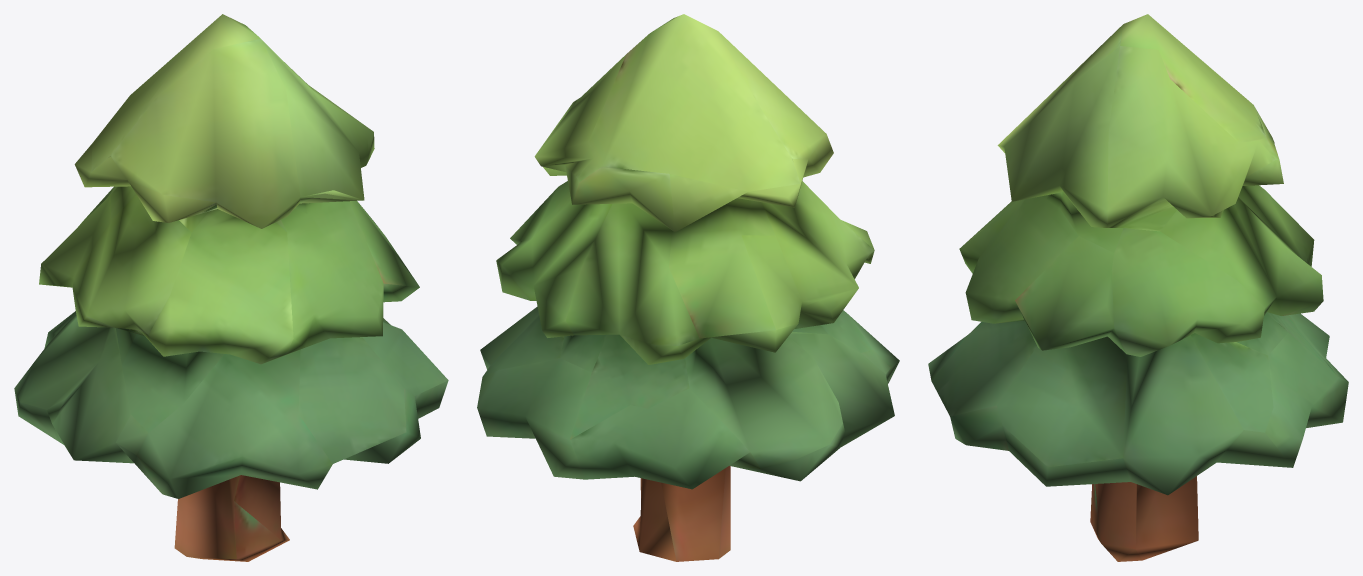
Rendered from tree_pine.glb.
The picture shows the model from 3 angles, left to right: view 1: azimuth 30°, elevation 25°; view 2: azimuth 150°, elevation 25°; view 3: azimuth 270°, elevation 25°; orthographic projection.
Parts seen in each view (by area): view 1: tripo_node_999a49b3-354c-4326-964a-3d71e9831419; view 2: tripo_node_999a49b3-354c-4326-964a-3d71e9831419; view 3: tripo_node_999a49b3-354c-4326-964a-3d71e9831419.
Boxes of the visible parts, x1,y1,x2,y2 form: tripo_node_999a49b3-354c-4326-964a-3d71e9831419: (14, 14, 448, 561); tripo_node_999a49b3-354c-4326-964a-3d71e9831419: (477, 14, 899, 561); tripo_node_999a49b3-354c-4326-964a-3d71e9831419: (928, 14, 1348, 561).
Size of the model in its own units: 0.7035 by 0.9756 by 0.7094.
1 material, 1 textured.
